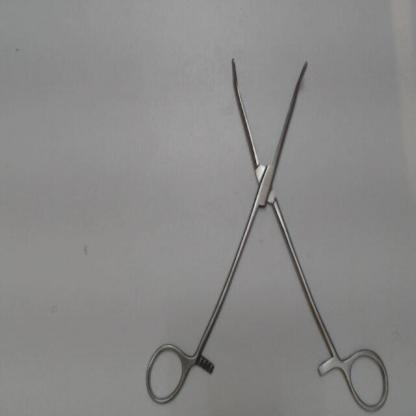Lahey Forceps: (138, 53, 398, 412)
